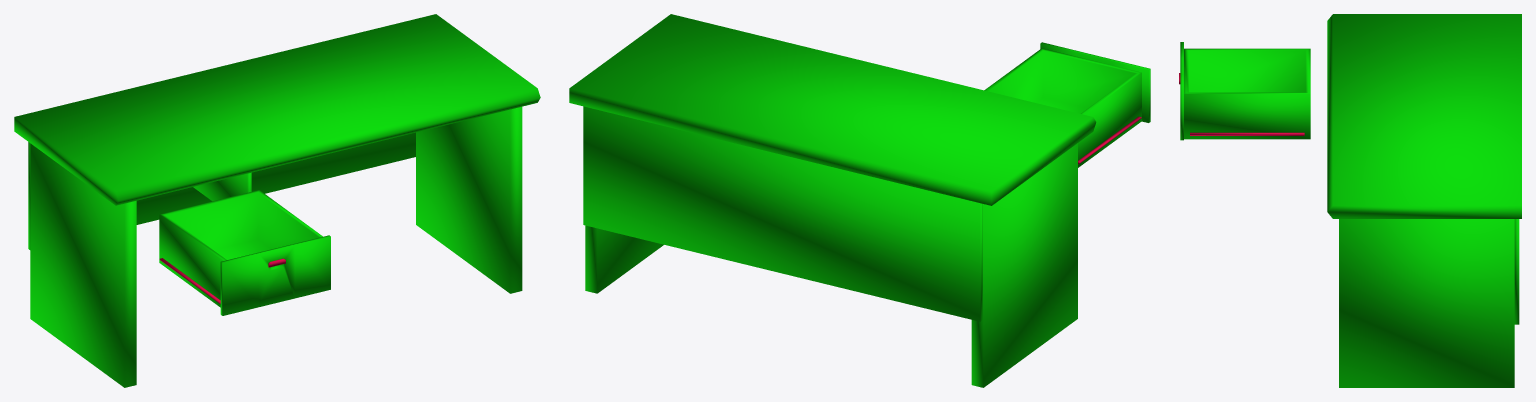
File: DeskTest.fbx
The picture shows the model from 3 angles, left to right: view 1: azimuth 30°, elevation 25°; view 2: azimuth 150°, elevation 25°; view 3: azimuth 270°, elevation 25°; orthographic projection. The views are drawn at different scales.
Parts seen in each view (by area): view 1: Table; view 2: Table; view 3: Table.
Boxes of the visible parts, left/top/right/bottom form: Table: left=14, top=14, right=540, bottom=387; Table: left=569, top=14, right=1150, bottom=387; Table: left=1179, top=14, right=1521, bottom=387.
Size of the model in its own units: 180 by 82.33 by 136.
